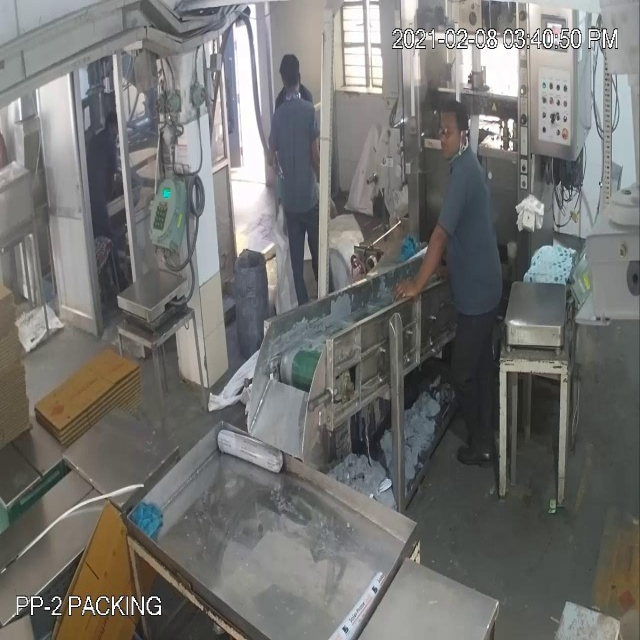Sin_guantes: (389, 212, 460, 312)
